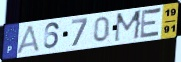0: (92, 15, 112, 44)
6: (44, 21, 61, 51)
7: (70, 16, 90, 48)
A: (16, 25, 41, 55)
E: (139, 6, 163, 40)
M: (113, 9, 144, 44)
